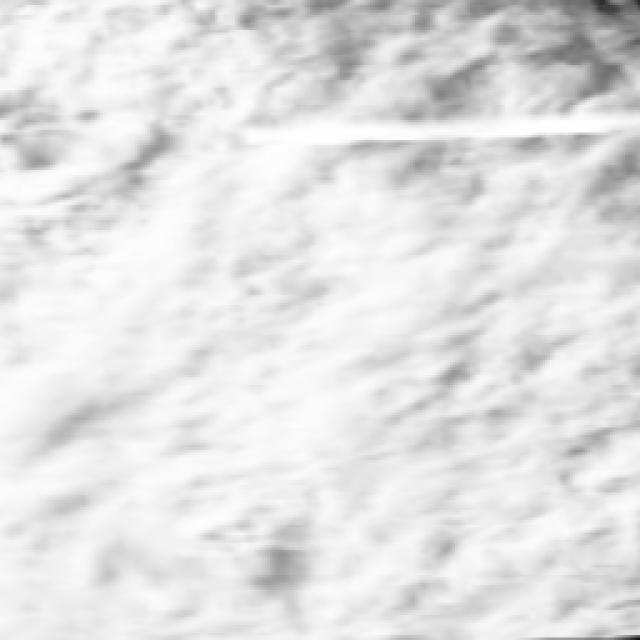CB: (42, 229, 200, 390)
